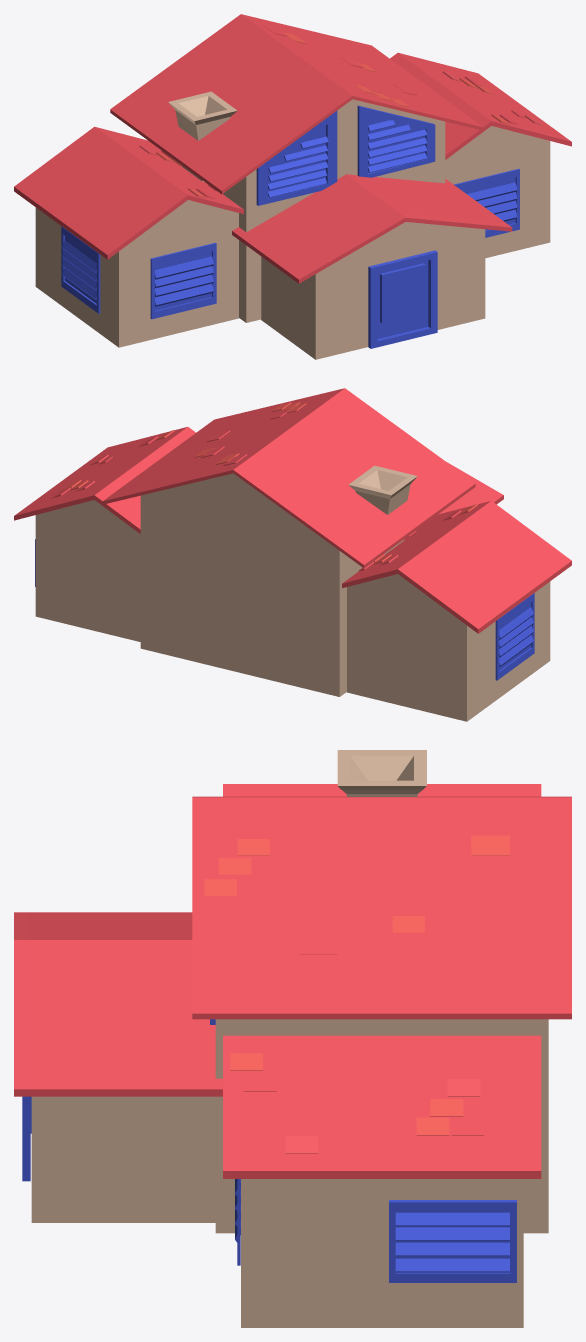
Rendered from house_type_8.obj.
3 renders of one model, top to bottom at view 1: azimuth 30°, elevation 25°; view 2: azimuth 150°, elevation 25°; view 3: azimuth 270°, elevation 25°, orthographic. The views are drawn at different scales.
Parts seen in each view (by area): view 1: house_type_8; view 2: house_type_8; view 3: house_type_8.
Boxes of the visible parts, box(x1,y1,x2,y2) form: house_type_8: box(14, 14, 571, 359); house_type_8: box(14, 388, 571, 721); house_type_8: box(14, 750, 571, 1327).
Size of the model in its own units: 7.26 by 3.12 by 4.45.
